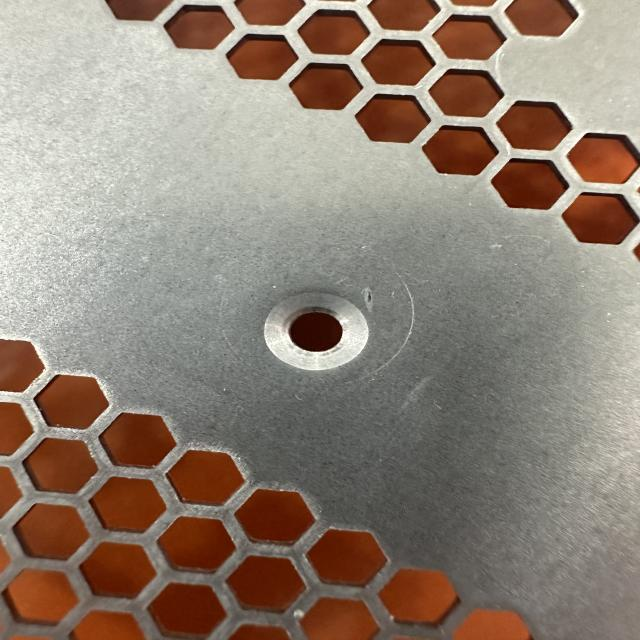Missing screw: (248, 282, 382, 381)
